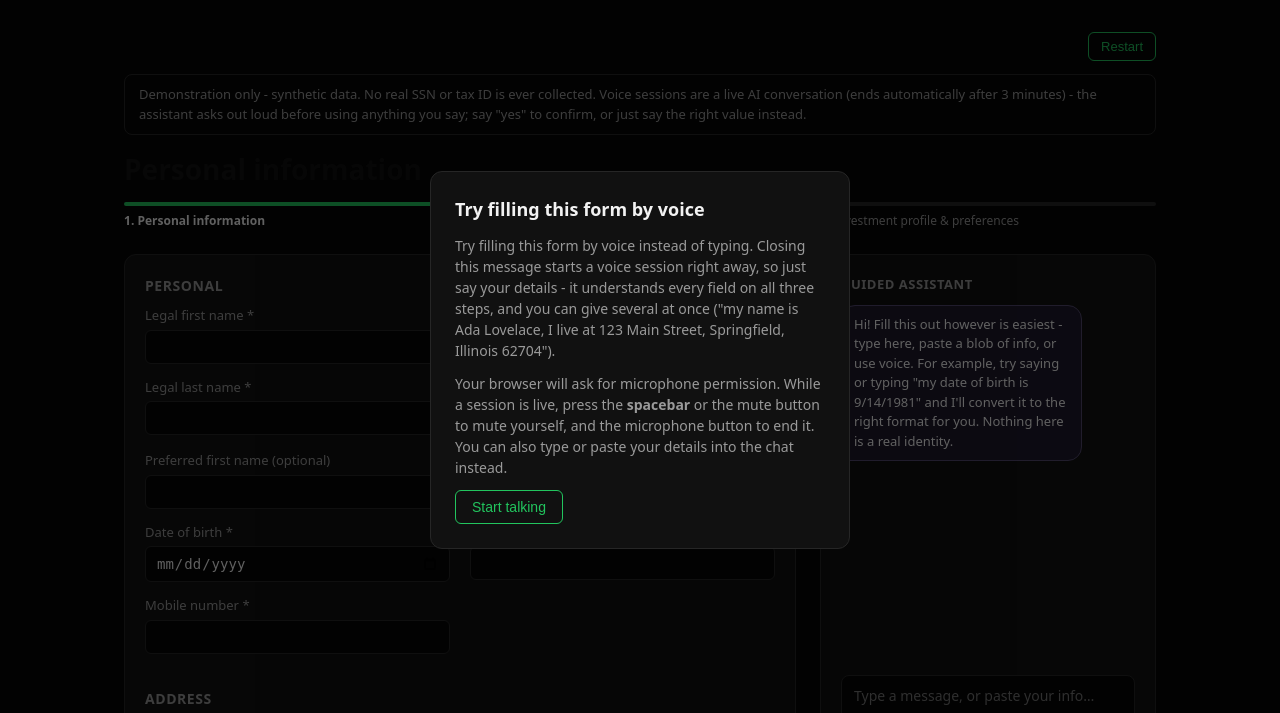
Scenario: PersonalInformationPage › greets a first-time visitor with a modal suggesting the voice option
The image size is (1280, 713).
Expected: the dialog named "try the voice option" shows "Try filling this form by voice", [455, 197, 705, 221]
Expected: the dialog named "try the voice option" shows "spacebar", [627, 395, 690, 414]
Step 1. Click the button "Start talking" → (509, 507), box [455, 490, 563, 524]
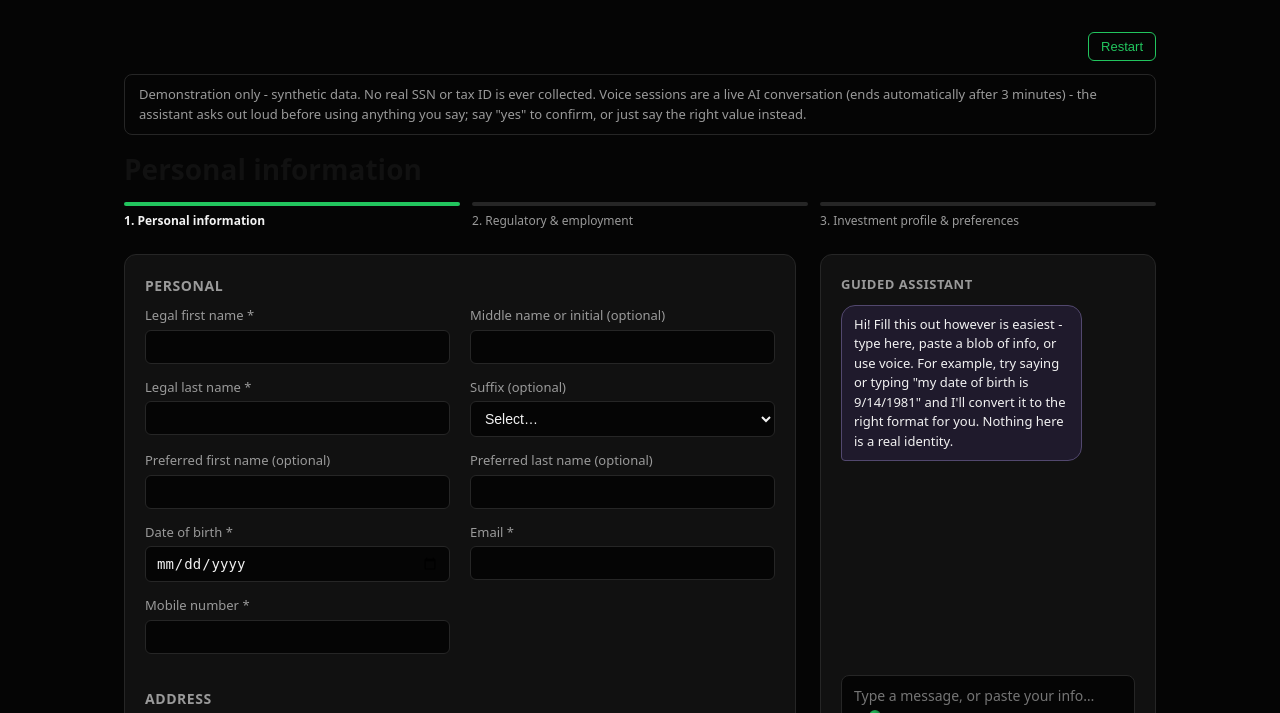
Expected: the dialog is gone
